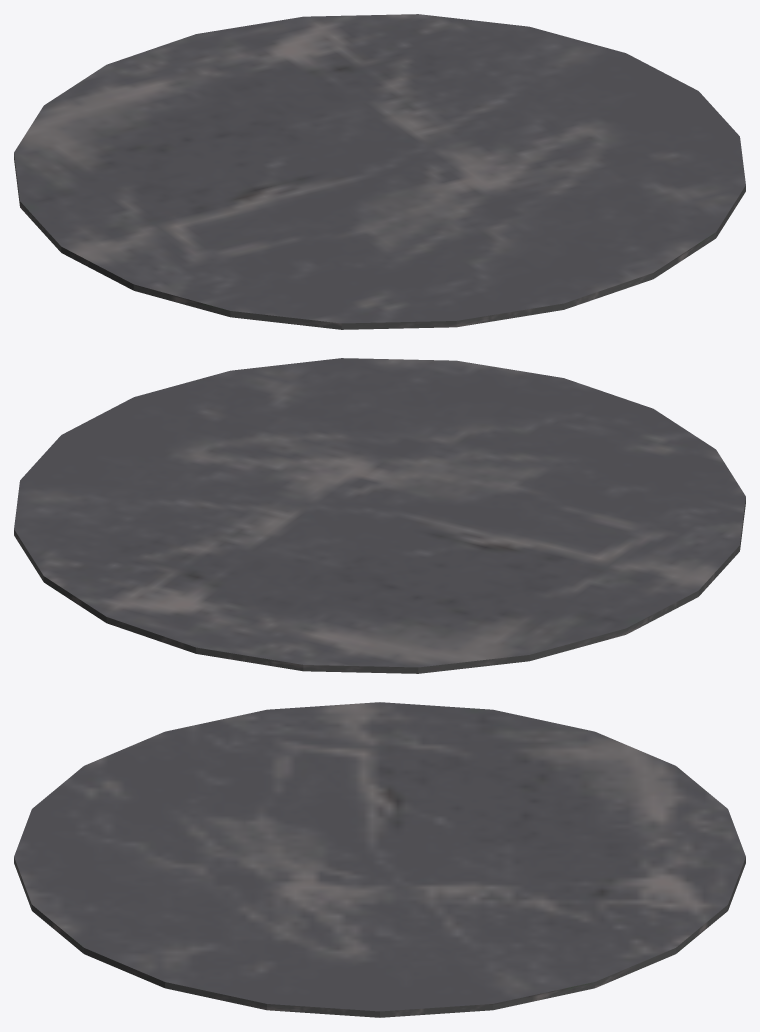
Rendered from Arena mk3 false floor destructable.fbx.
The picture shows the model from 3 angles, top to bottom: view 1: azimuth 30°, elevation 25°; view 2: azimuth 150°, elevation 25°; view 3: azimuth 270°, elevation 25°; orthographic projection.
Parts seen in each view (by area): view 1: polySurface31, polySurface54, polySurface66, polySurface2, polySurface67, polySurface46, polySurface56, polySurface45, polySurface40, polySurface48, polySurface3, polySurface36 (+29 smaller); view 2: polySurface31, polySurface54, polySurface66, polySurface2, polySurface67, polySurface46, polySurface56, polySurface45, polySurface40, polySurface48, polySurface3, polySurface36 (+29 smaller); view 3: polySurface31, polySurface66, polySurface54, polySurface2, polySurface67, polySurface46, polySurface56, polySurface45, polySurface3, polySurface40, polySurface48, polySurface60 (+29 smaller).
Boxes of the visible parts, x1=… form: polySurface31: x1=390, y1=219, x2=585, y2=320; polySurface54: x1=196, y1=14, x2=445, y2=93; polySurface66: x1=456, y1=53, x2=697, y2=132; polySurface2: x1=528, y1=91, x2=739, y2=170; polySurface67: x1=196, y1=34, x2=408, y2=115; polySurface46: x1=282, y1=116, x2=477, y2=192; polySurface56: x1=536, y1=147, x2=745, y2=211; polySurface45: x1=122, y1=151, x2=281, y2=231; polySurface40: x1=14, y1=114, x2=172, y2=189; polySurface48: x1=282, y1=193, x2=449, y2=271; polySurface3: x1=446, y1=26, x2=625, y2=94; polySurface36: x1=20, y1=169, x2=148, y2=252; polySurface31: x1=390, y1=408, x2=652, y2=461; polySurface54: x1=43, y1=536, x2=211, y2=653; polySurface66: x1=20, y1=435, x2=231, y2=521; polySurface2: x1=62, y1=397, x2=273, y2=476; polySurface67: x1=173, y1=539, x2=276, y2=646; polySurface46: x1=276, y1=489, x2=477, y2=554; polySurface56: x1=179, y1=370, x2=339, y2=446; polySurface45: x1=422, y1=537, x2=636, y2=596; polySurface40: x1=371, y1=597, x2=580, y2=654; polySurface48: x1=437, y1=457, x2=585, y2=536; polySurface3: x1=14, y1=479, x2=190, y2=536; polySurface36: x1=498, y1=575, x2=698, y2=634; polySurface31: x1=32, y1=809, x2=240, y2=904; polySurface66: x1=380, y1=921, x2=492, y2=1017; polySurface54: x1=518, y1=857, x2=745, y2=953; polySurface2: x1=267, y1=928, x2=379, y2=1017; polySurface67: x1=493, y1=856, x2=745, y2=904; polySurface46: x1=380, y1=809, x2=492, y2=904; polySurface56: x1=165, y1=904, x2=266, y2=981; polySurface45: x1=380, y1=732, x2=492, y2=808; polySurface3: x1=460, y1=921, x2=594, y2=1010; polySurface40: x1=493, y1=731, x2=594, y2=808; polySurface48: x1=165, y1=809, x2=379, y2=856; polySurface60: x1=84, y1=750, x2=266, y2=808.
Size of the model in its own units: 36 by 0.3454 by 36.
